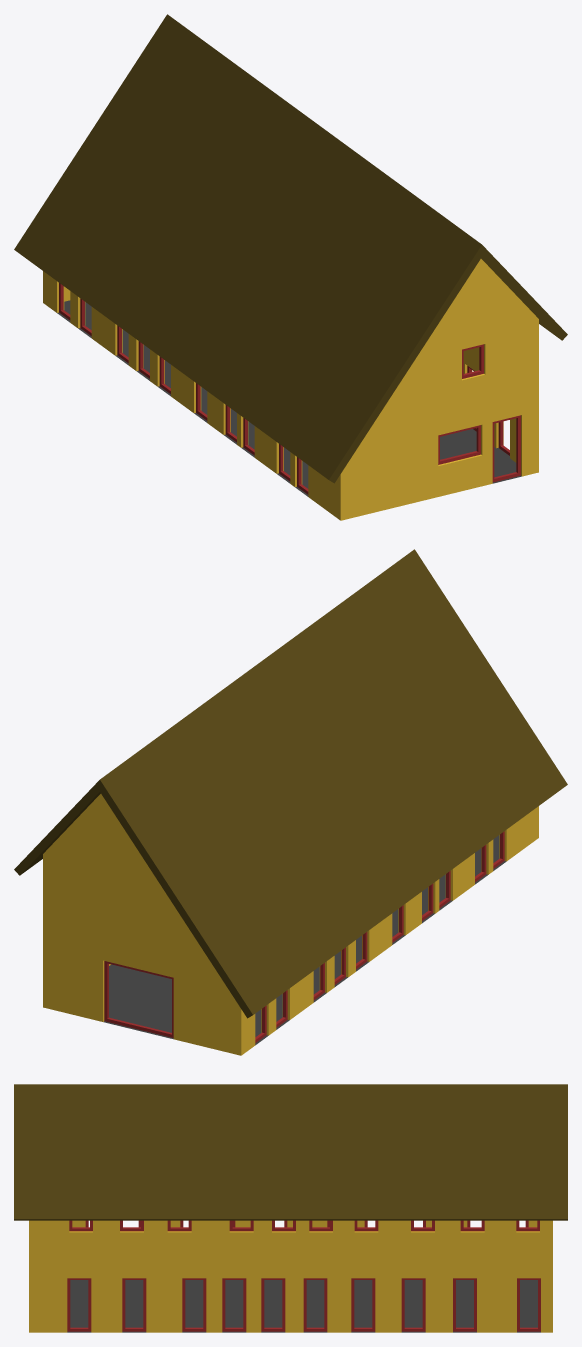
The model's file is result.dae.
The picture shows the model from 3 angles, top to bottom: view 1: azimuth 30°, elevation 25°; view 2: azimuth 150°, elevation 25°; view 3: azimuth 270°, elevation 25°; orthographic projection. The views are drawn at different scales.
Visible parts, largest first — view 1: 8167f353-ac44-4231-865d-e22e61953942__undefined (×3), fb93e28e-18c2-4d4c-80cd-c7285bc58c05__undefined (×3), 01339b98-c29b-4b88-a1a1-2a750e55b100__Plane_44; view 2: 8167f353-ac44-4231-865d-e22e61953942__undefined (×3), fb93e28e-18c2-4d4c-80cd-c7285bc58c05__undefined (×2), 01339b98-c29b-4b88-a1a1-2a750e55b100__Plane_44, b62559de-5387-49b4-afc8-e38d4a350305__Box_9; view 3: 8167f353-ac44-4231-865d-e22e61953942__undefined (×2), fb93e28e-18c2-4d4c-80cd-c7285bc58c05__undefined (×2), 01339b98-c29b-4b88-a1a1-2a750e55b100__Plane_44, a9f217ec-a56c-4242-a55c-9071074d1dcd__Box_72, e3411ee7-f11f-4495-954f-62791e4a69c7__Box_75, 28009b31-54a6-49ca-80e2-341fbf966a29__Box_78, 36749755-dccc-449b-b352-1408191cd250__Box_81, b46a4161-90a4-4f92-95b0-1f56acc8af58__Box_84, 395da084-a434-49a0-ab08-7825f84f43ba__Box_87, ac0dfd5a-cdaa-45fe-ae7a-26c42260ea1b__Box_90, bcc7e819-56b2-4c45-a4c4-ee541963a6df__Box_93, fc2eee35-bda5-4378-b0eb-3834c9a46085__Box_96 (+1 smaller).
Part boxes in pixels (x1,y1,x2,y2): 8167f353-ac44-4231-865d-e22e61953942__undefined (×3): (14,14,567,483); fb93e28e-18c2-4d4c-80cd-c7285bc58c05__undefined (×3): (43,259,538,520); 01339b98-c29b-4b88-a1a1-2a750e55b100__Plane_44: (57,300,521,496); 8167f353-ac44-4231-865d-e22e61953942__undefined (×3): (14,549,567,1018); fb93e28e-18c2-4d4c-80cd-c7285bc58c05__undefined (×2): (43,794,538,1055); 01339b98-c29b-4b88-a1a1-2a750e55b100__Plane_44: (103,835,506,1045); b62559de-5387-49b4-afc8-e38d4a350305__Box_9: (104,961,173,1037); 8167f353-ac44-4231-865d-e22e61953942__undefined (×2): (14,1084,567,1220); fb93e28e-18c2-4d4c-80cd-c7285bc58c05__undefined (×2): (29,1220,552,1332); 01339b98-c29b-4b88-a1a1-2a750e55b100__Plane_44: (67,1280,540,1332); a9f217ec-a56c-4242-a55c-9071074d1dcd__Box_72: (67,1278,91,1331); e3411ee7-f11f-4495-954f-62791e4a69c7__Box_75: (122,1278,146,1331); 28009b31-54a6-49ca-80e2-341fbf966a29__Box_78: (182,1278,206,1331); 36749755-dccc-449b-b352-1408191cd250__Box_81: (222,1278,246,1331); b46a4161-90a4-4f92-95b0-1f56acc8af58__Box_84: (261,1278,285,1331); 395da084-a434-49a0-ab08-7825f84f43ba__Box_87: (303,1278,327,1331); ac0dfd5a-cdaa-45fe-ae7a-26c42260ea1b__Box_90: (351,1278,375,1331); bcc7e819-56b2-4c45-a4c4-ee541963a6df__Box_93: (401,1278,425,1331); fc2eee35-bda5-4378-b0eb-3834c9a46085__Box_96: (453,1278,476,1331).
Size of the model in its own units: 813 by 812 by 1853.
